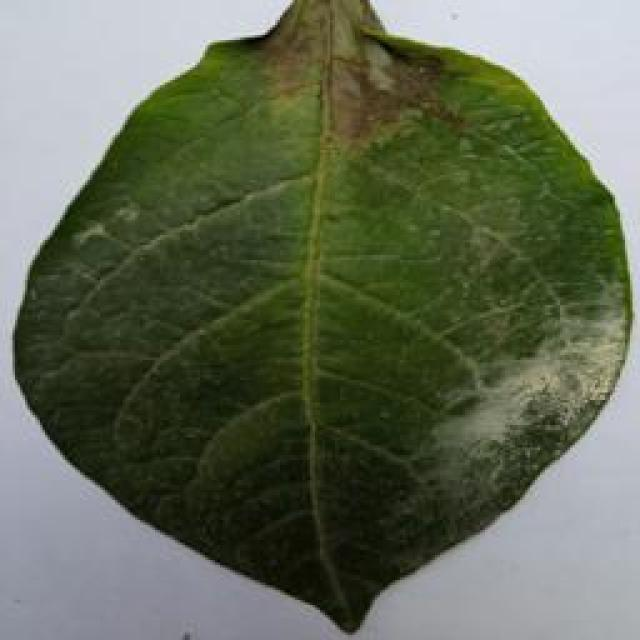Potato_Late_Blight: (4, 6, 632, 632)
